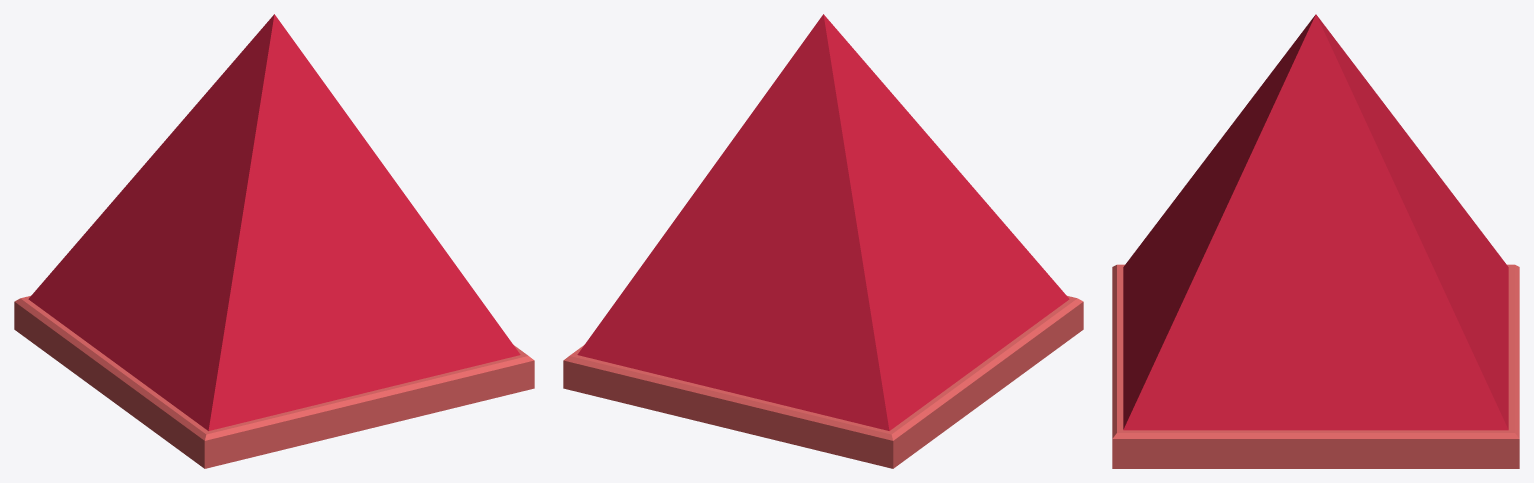
The model's file is Spike.fbx.
The picture shows the model from 3 angles, left to right: view 1: azimuth 30°, elevation 25°; view 2: azimuth 150°, elevation 25°; view 3: azimuth 270°, elevation 25°; orthographic projection. The views are drawn at different scales.
Visible parts, largest first — view 1: Spike; view 2: Spike; view 3: Spike.
Boxes of the visible parts, left/top/right/bottom form: Spike: left=14, top=14, right=534, bottom=468; Spike: left=563, top=14, right=1083, bottom=468; Spike: left=1112, top=14, right=1519, bottom=468.
Bounding box in the file's own units: 1 × 1 × 1.
